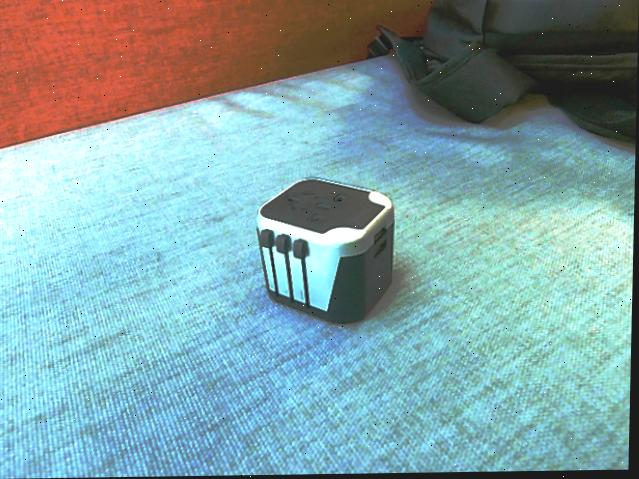adapter: (254, 178, 397, 326)
